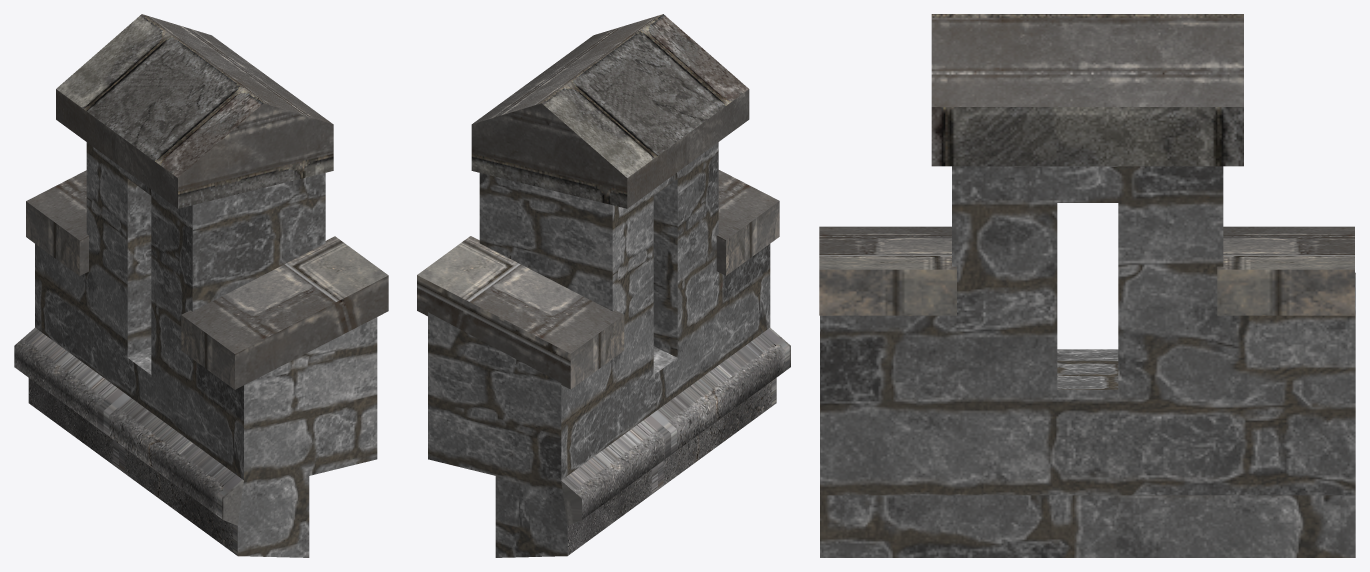
File: MC_Battlements_Wall_A_2m.fbx
3 views of the same model, side by side, from view 1: azimuth 30°, elevation 25°; view 2: azimuth 150°, elevation 25°; view 3: azimuth 270°, elevation 25° (orthographic). The views are drawn at different scales.
Visible parts, largest first — view 1: MC_Battlements_Wall_A_2m; view 2: MC_Battlements_Wall_A_2m; view 3: MC_Battlements_Wall_A_2m.
Part boxes in pixels (bbox=[...]): MC_Battlements_Wall_A_2m: bbox=[14, 14, 388, 557]; MC_Battlements_Wall_A_2m: bbox=[417, 14, 790, 557]; MC_Battlements_Wall_A_2m: bbox=[819, 14, 1355, 557].
Size of the model in its own units: 92.28 by 224 by 200.
